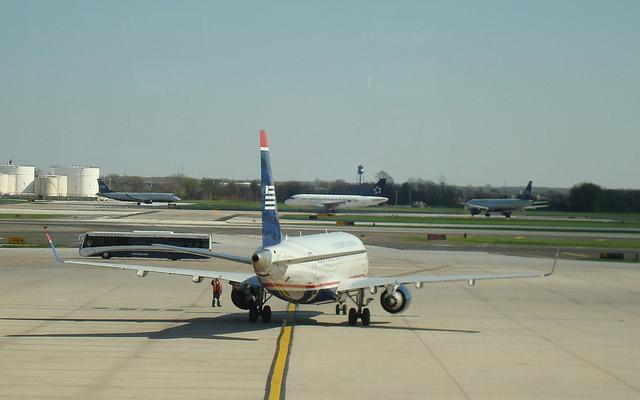airplane: (44, 127, 561, 328), (284, 176, 389, 214), (456, 179, 551, 219), (94, 177, 183, 206)
